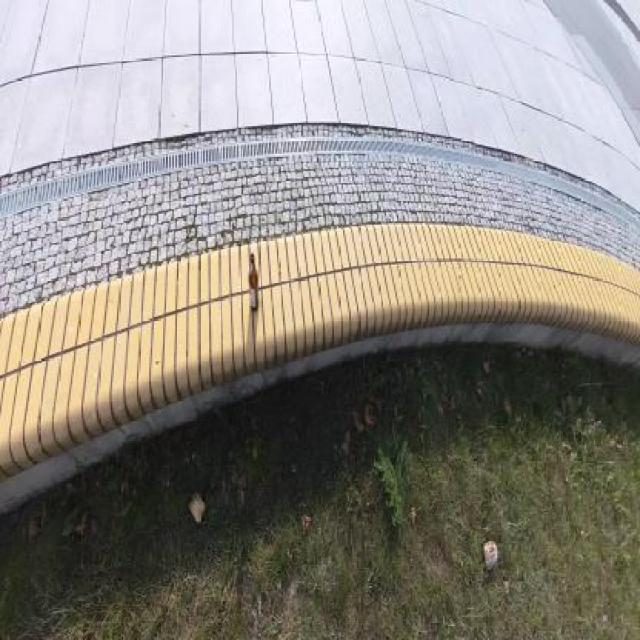Garbage: (248, 256, 258, 309), (482, 539, 498, 570)
